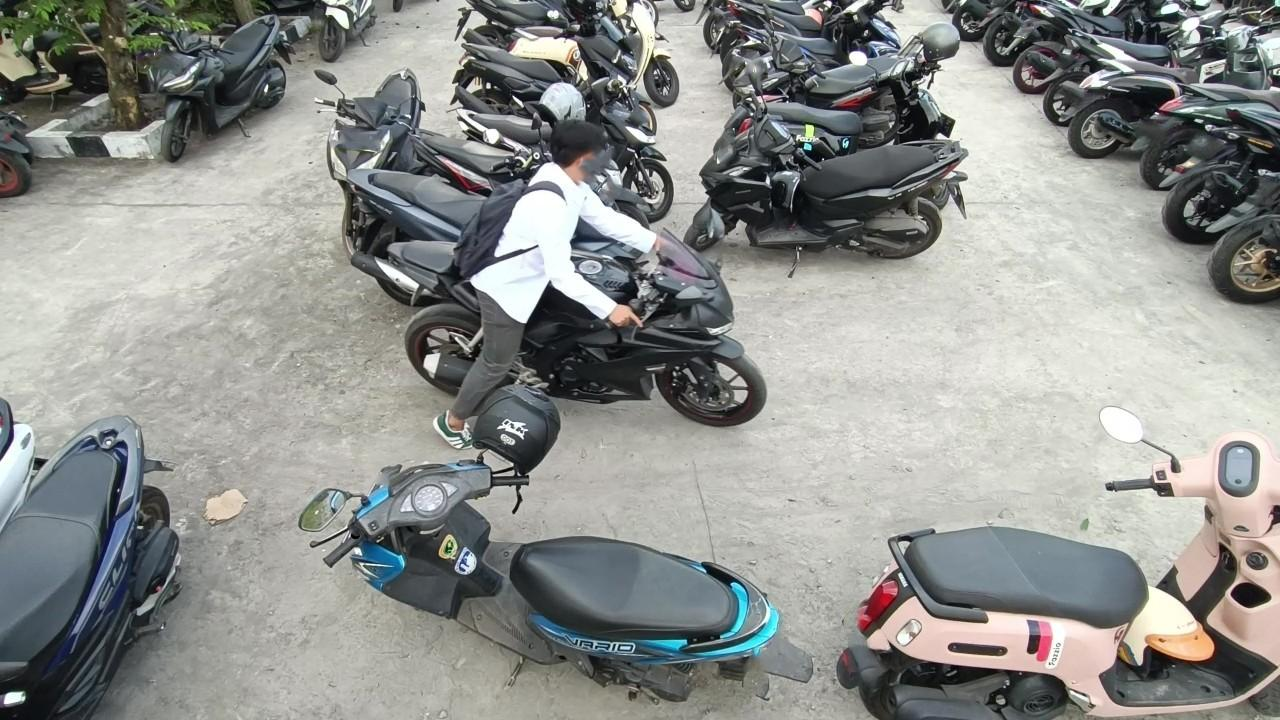motorcycle: (300, 384, 816, 708), (840, 405, 1280, 720), (386, 123, 768, 451), (350, 115, 653, 307), (0, 415, 180, 720), (682, 94, 968, 260), (412, 85, 651, 239), (456, 60, 674, 222), (1058, 0, 1279, 158), (731, 22, 962, 161), (452, 0, 657, 137), (1039, 0, 1259, 127), (735, 9, 929, 148), (144, 15, 291, 163), (315, 69, 425, 258), (508, 0, 680, 107), (1008, 0, 1191, 91), (0, 0, 155, 106), (724, 0, 904, 90), (1163, 108, 1280, 243), (1141, 84, 1280, 188), (1204, 170, 1280, 304), (722, 0, 859, 54), (0, 394, 52, 529), (457, 0, 571, 46), (0, 92, 36, 212), (319, 0, 377, 61), (982, 0, 1027, 66), (953, 0, 994, 41)
